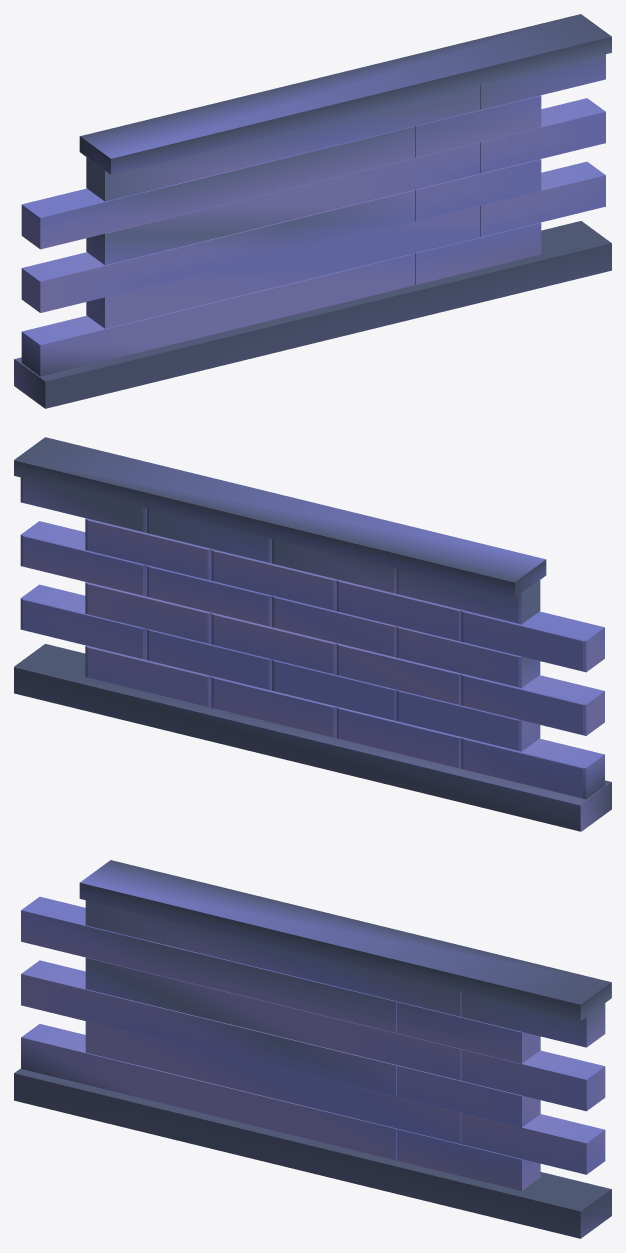
The model's file is wall_02.fbx.
3 views of the same model, one above another, from view 1: azimuth 30°, elevation 25°; view 2: azimuth 150°, elevation 25°; view 3: azimuth 330°, elevation 25° (orthographic).
Parts seen in each view (by area): view 1: Cube.017; view 2: Cube.017; view 3: Cube.017.
Boxes of the visible parts, left/top/right/bottom form: Cube.017: left=14, top=14, right=611, bottom=408; Cube.017: left=14, top=437, right=611, bottom=831; Cube.017: left=14, top=860, right=611, bottom=1238.
Bounding box in the file's own units: 226 × 89.19 × 21.64.
